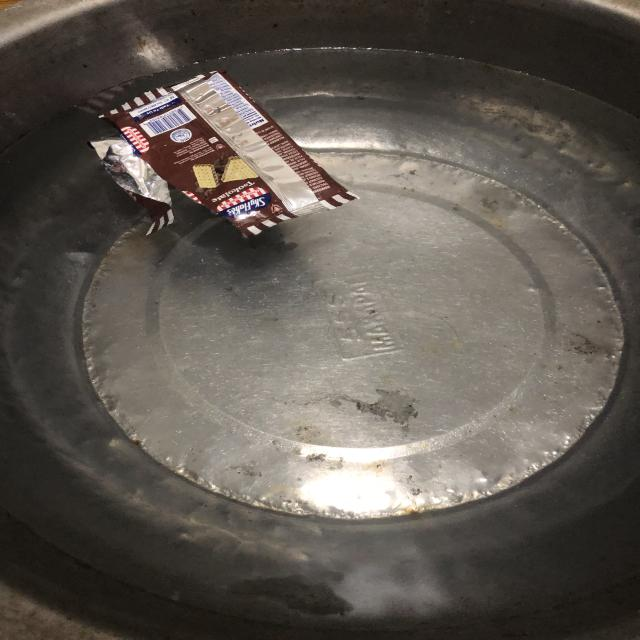Plastic Wrapper: (59, 49, 379, 265)
